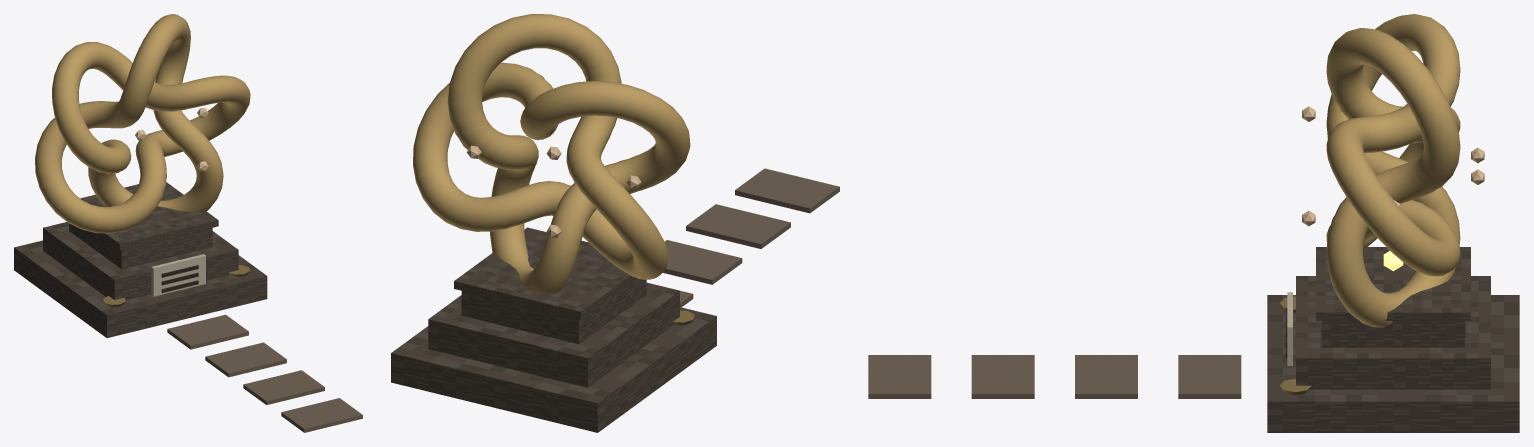
Rendered from baseline.glb.
The picture shows the model from 3 angles, left to right: view 1: azimuth 30°, elevation 25°; view 2: azimuth 150°, elevation 25°; view 3: azimuth 270°, elevation 25°; orthographic projection. The views are drawn at different scales.
Parts seen in each view (by area): view 1: knot, mn3_0, mn3_4, mn3_1, mn3_2, mn3_3; view 2: knot, mn3_0, mn3_4; view 3: mn3_0, knot, mn3_4.
Boxes of the visible parts, x1,y1,x2,y2 form: knot: [35, 14, 250, 233]; mn3_0: [14, 182, 267, 337]; mn3_4: [167, 314, 362, 432]; mn3_1: [151, 254, 205, 296]; mn3_2: [161, 265, 198, 292]; mn3_3: [103, 265, 249, 306]; knot: [413, 14, 690, 294]; mn3_0: [391, 227, 716, 432]; mn3_4: [647, 168, 839, 307]; mn3_0: [1267, 247, 1519, 432]; knot: [1302, 14, 1484, 327]; mn3_4: [868, 355, 1241, 398].
Size of the model in its own units: 2.71 by 3.44 by 5.67.
Materials: 3 (2 with a texture image).
